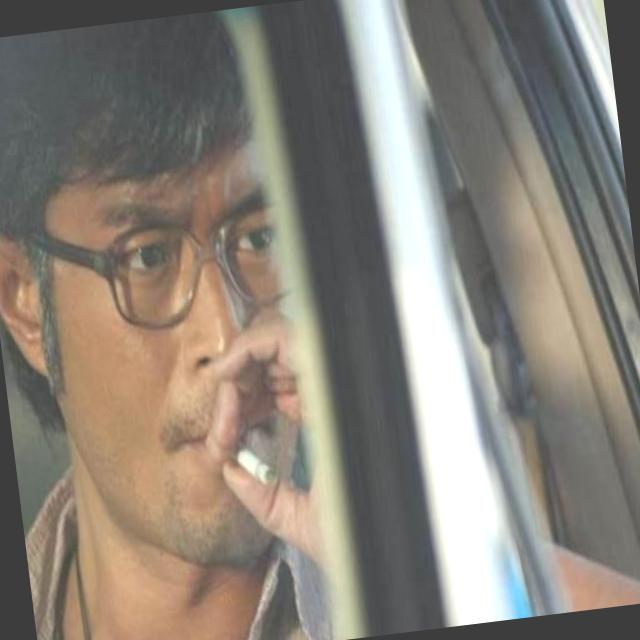cigarette: (236, 442, 282, 493)
